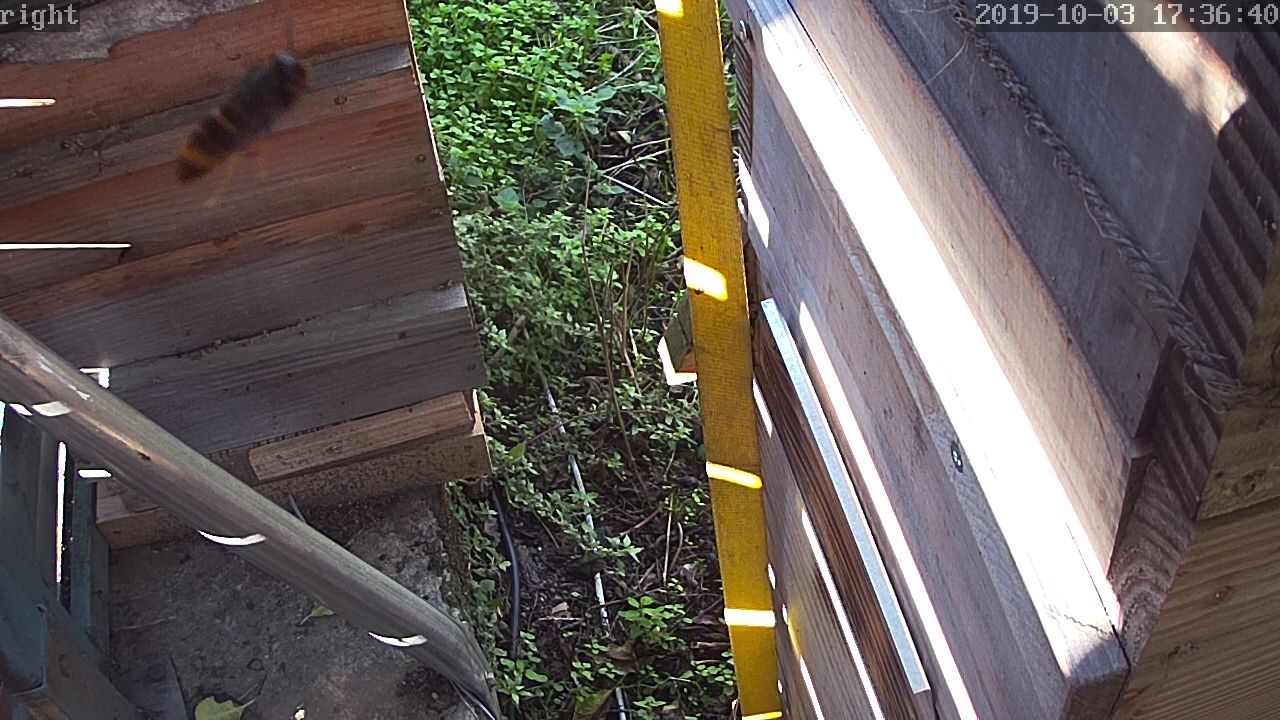hornet: (170, 65, 286, 173)
